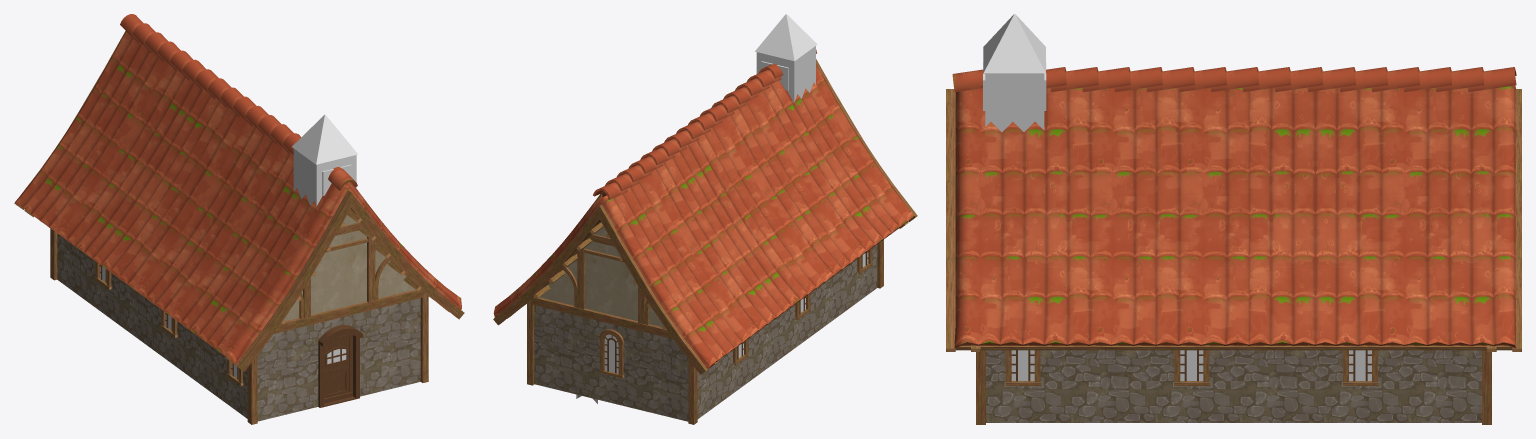
The model's file is fx_chapel.gltf.
3 views of the same model, side by side, from view 1: azimuth 30°, elevation 25°; view 2: azimuth 150°, elevation 25°; view 3: azimuth 270°, elevation 25° (orthographic). The views are drawn at different scales.
Parts seen in each view (by area): view 1: T1_KitRoofRoundTiles6x12058, T1_KitRoofFrontBrick6059, T1_KitWallUnevenBrickStraight006, T1_KitWallUnevenBrickStraight001, T1_KitWallUnevenBrickDoorRound002, T1_TurretRoof063, T1_KitDoor1Round004, T1_TurretBase061, T1_KitWallUnevenBrickStraight020, T1_KitWallUnevenBrickStraight016, T1_KitWallUnevenBrickStraight012, T1_KitDoorFrameRoundWoodDark003 (+5 smaller); view 2: T1_KitRoofRoundTiles6x12058, T1_KitRoofFrontBrick6060, T1_KitWallUnevenBrickStraight007, T1_KitWallUnevenBrickStraight011, T1_KitWallUnevenBrickWindowThinRound008, T1_TurretRoof063, T1_TurretBase061, T1_KitWallUnevenBrickStraight016, T1_KitWallUnevenBrickStraight020, T1_KitWallUnevenBrickStraight012, T1_KitWallUnevenBrickWindowThinRound017, T1_KitWallUnevenBrickWindowThinRound013 (+5 smaller); view 3: T1_KitRoofRoundTiles6x12058, T1_KitWallUnevenBrickStraight027, T1_KitWallUnevenBrickStraight031, T1_KitWallUnevenBrickStraight035, T1_KitWallUnevenBrickWindowThinRound028, T1_KitWallUnevenBrickWindowThinRound032, T1_KitWallUnevenBrickWindowThinRound024, T1_TurretBase061, T1_TurretRoof063, T1_KitWindowThinRound1025, T1_KitWindowThinRound1029, T1_KitWindowThinRound1033 (+5 smaller).
Part boxes in pixels (left/top/right/bottom): T1_KitRoofRoundTiles6x12058: left=14, top=14, right=464, bottom=371; T1_KitRoofFrontBrick6059: left=274, top=210, right=424, bottom=333; T1_KitWallUnevenBrickStraight006: left=366, top=298, right=420, bottom=394; T1_KitWallUnevenBrickStraight001: left=257, top=325, right=309, bottom=421; T1_KitWallUnevenBrickDoorRound002: left=309, top=311, right=366, bottom=408; T1_TurretRoof063: left=292, top=114, right=358, bottom=164; T1_KitDoor1Round004: left=324, top=334, right=352, bottom=403; T1_TurretBase061: left=293, top=148, right=356, bottom=206; T1_KitWallUnevenBrickStraight020: left=187, top=328, right=219, bottom=398; T1_KitWallUnevenBrickStraight016: left=121, top=280, right=153, bottom=350; T1_KitWallUnevenBrickStraight012: left=57, top=234, right=87, bottom=301; T1_KitDoorFrameRoundWoodDark003: left=318, top=325, right=363, bottom=407; T1_KitRoofRoundTiles6x12058: left=493, top=49, right=917, bottom=374; T1_KitRoofFrontBrick6060: left=530, top=222, right=672, bottom=338; T1_KitWallUnevenBrickStraight007: left=534, top=305, right=585, bottom=396; T1_KitWallUnevenBrickStraight011: left=639, top=331, right=688, bottom=421; T1_KitWallUnevenBrickWindowThinRound008: left=585, top=318, right=639, bottom=409; T1_TurretRoof063: left=755, top=14, right=817, bottom=61; T1_TurretBase061: left=756, top=46, right=815, bottom=102; T1_KitWallUnevenBrickStraight016: left=755, top=311, right=786, bottom=377; T1_KitWallUnevenBrickStraight020: left=817, top=266, right=848, bottom=331; T1_KitWallUnevenBrickStraight012: left=697, top=357, right=723, bottom=418; T1_KitWallUnevenBrickWindowThinRound017: left=786, top=288, right=817, bottom=354; T1_KitWallUnevenBrickWindowThinRound013: left=724, top=334, right=754, bottom=399; T1_KitRoofRoundTiles6x12058: left=946, top=67, right=1521, bottom=351; T1_KitWallUnevenBrickStraight027: left=1065, top=350, right=1149, bottom=422; T1_KitWallUnevenBrickStraight031: left=1234, top=350, right=1318, bottom=422; T1_KitWallUnevenBrickStraight035: left=1402, top=350, right=1481, bottom=422; T1_KitWallUnevenBrickWindowThinRound028: left=1149, top=350, right=1233, bottom=422; T1_KitWallUnevenBrickWindowThinRound032: left=1318, top=350, right=1402, bottom=422; T1_KitWallUnevenBrickWindowThinRound024: left=986, top=350, right=1065, bottom=422; T1_TurretBase061: left=985, top=73, right=1044, bottom=131; T1_TurretRoof063: left=983, top=14, right=1045, bottom=73; T1_KitWindowThinRound1025: left=1005, top=350, right=1041, bottom=385; T1_KitWindowThinRound1029: left=1174, top=350, right=1209, bottom=385; T1_KitWindowThinRound1033: left=1342, top=350, right=1378, bottom=385.
Size of the model in its own units: 8.25 by 9.55 by 13.66.
Materials: 30 (30 with a texture image).
